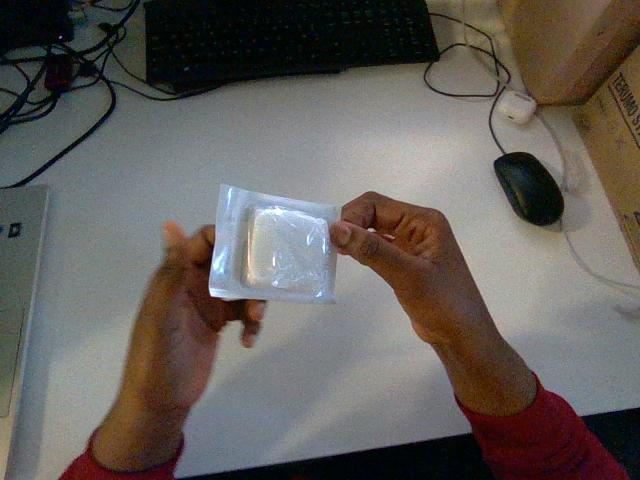gauze: (209, 185, 339, 302)
